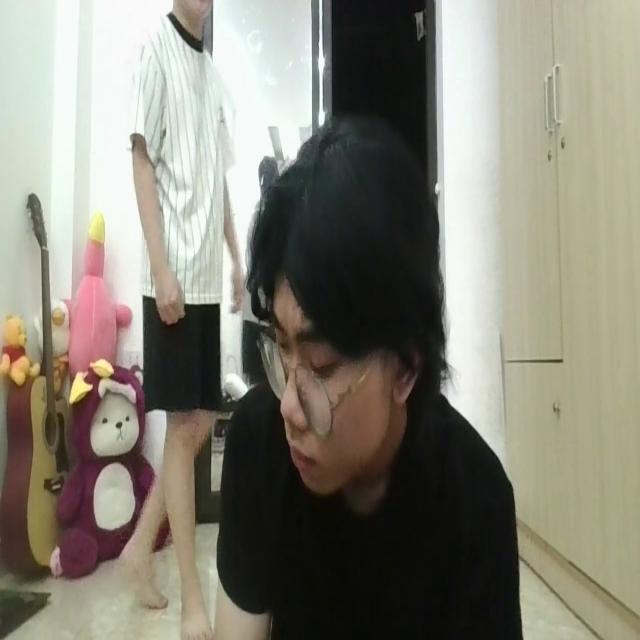extra_person: (100, 21, 240, 640)
student: (212, 113, 520, 640)
